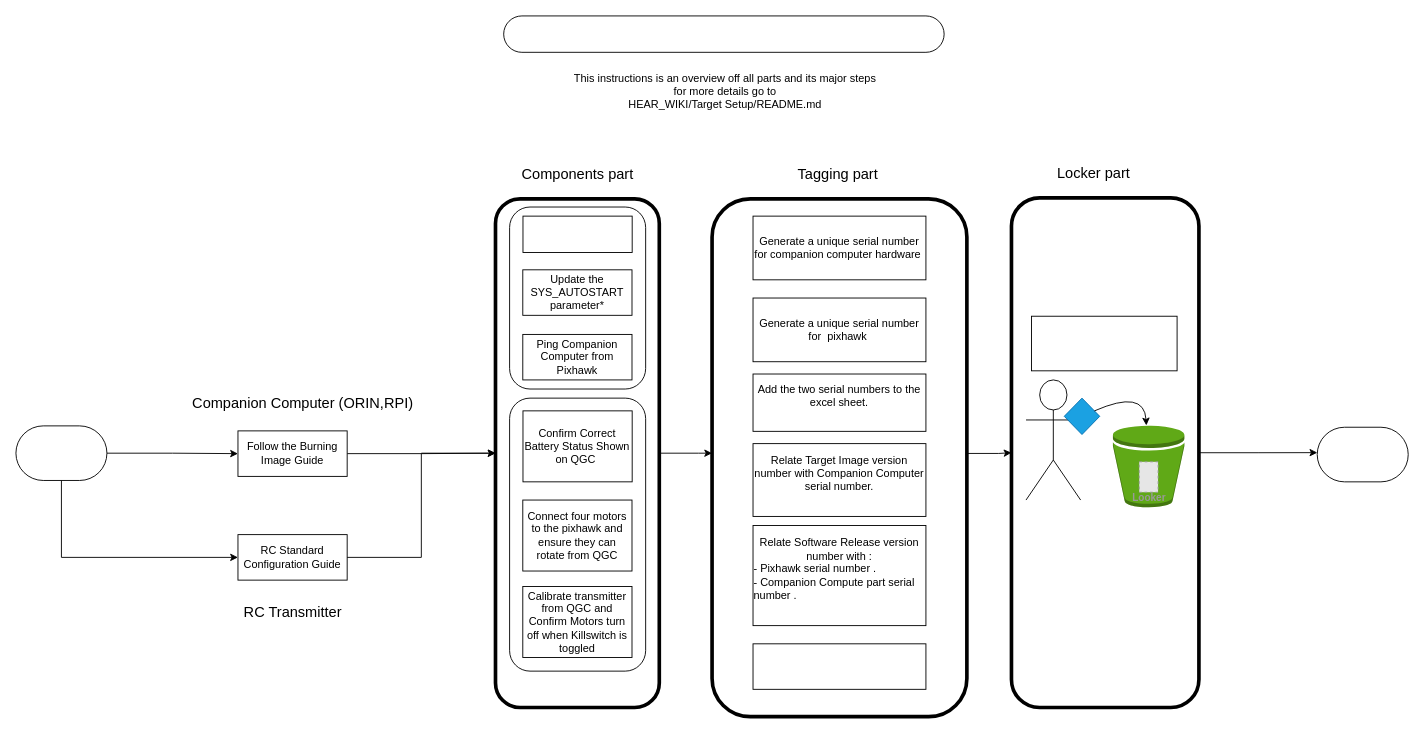
The diagram is 1424 pixels wide and 734 high, and some of its shapes have lost their labels. Grey dashed boxes stand in for pictures. The shapes that lost their labels are listed below. From the top down, each one's box as (x1, y1, x2, y2) in pixels, then its label:
(503, 15, 944, 52): 'Ready To Integrate' Certification Process
(522, 215, 632, 253): Install latest PX4 firmware
(1031, 315, 1177, 371): Put all hardwares at "Ready To Integrate Box"
(15, 425, 107, 480): Start
(1316, 426, 1408, 482): Finish
(752, 643, 926, 689): print all serial numbers and stick it to it's propper hardware
